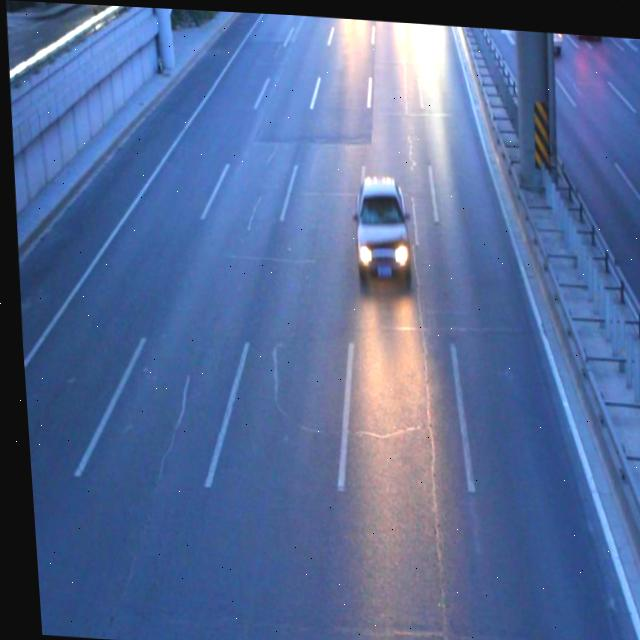car: (347, 172, 409, 283)
